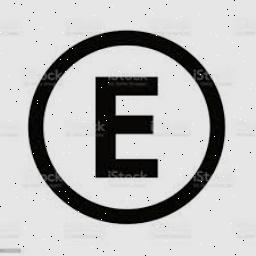e: (88, 75, 164, 179)
